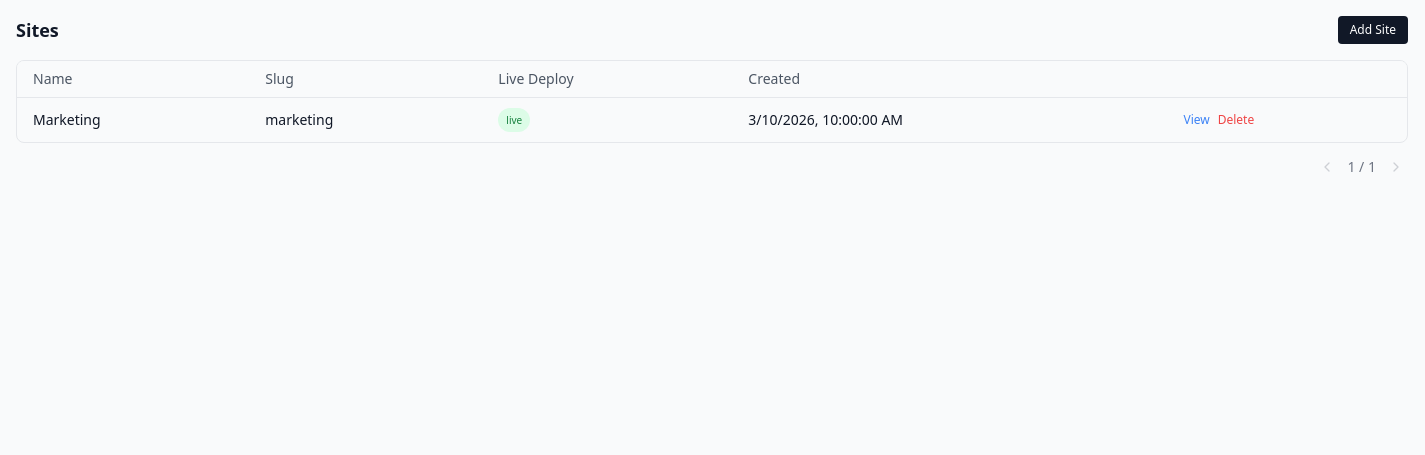
it: Sites › create form validates required fields
Expected: the text "Marketing" is shown, [17, 98, 249, 142]
Click the button "Add Site".
click(1373, 30)  # box [1338, 16, 1408, 44]
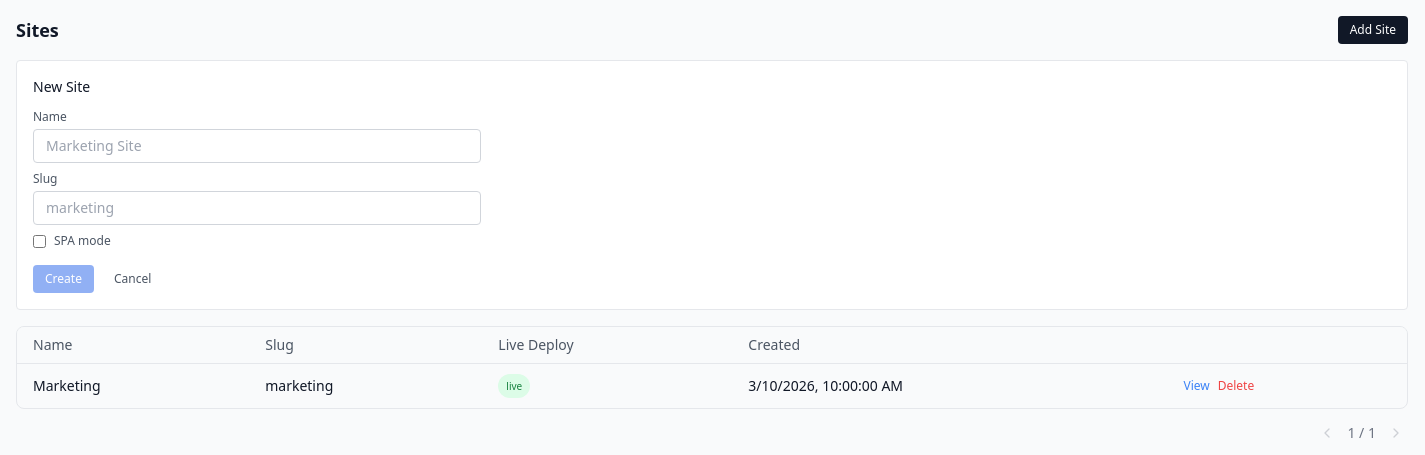
Result: the button "Create" is disabled at [33, 265, 94, 293]
Type "Docs" into the field labelled "Name".
click(257, 146); type("Docs")  # box [33, 129, 481, 163]
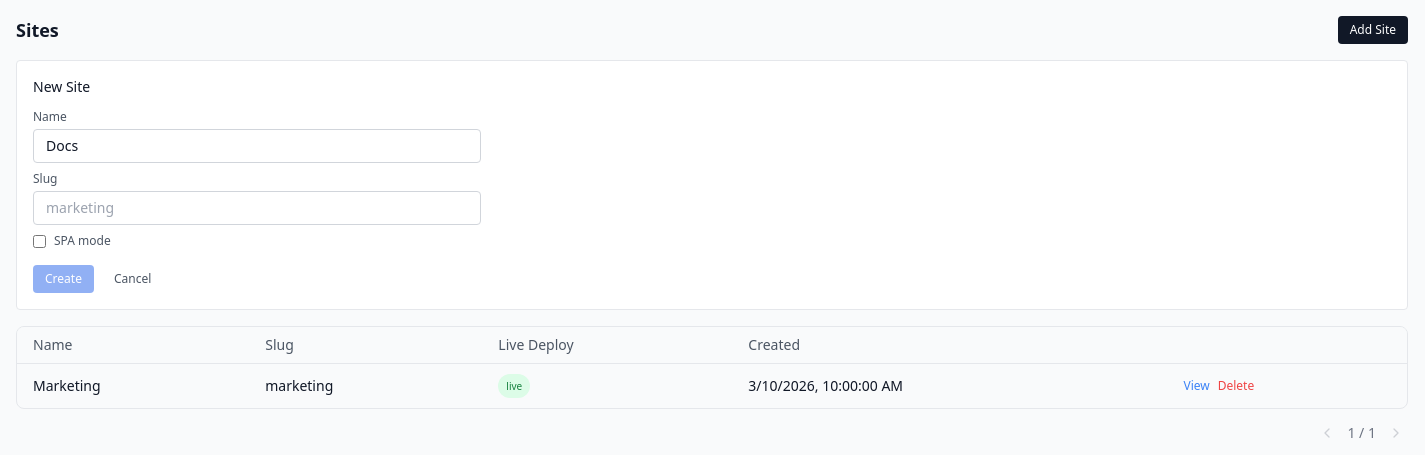
Result: the button "Create" is disabled at [33, 265, 94, 293]
Type "docs" into the field labelled "Slug".
click(257, 208); type("docs")  # box [33, 191, 481, 225]
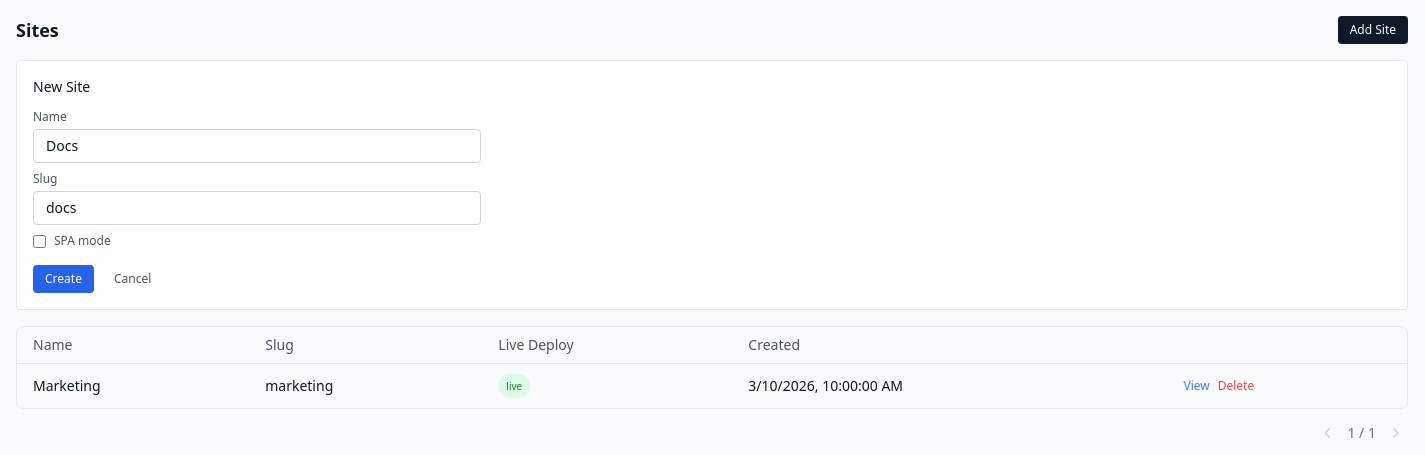
Result: the button "Create" is enabled at [33, 265, 94, 293]
